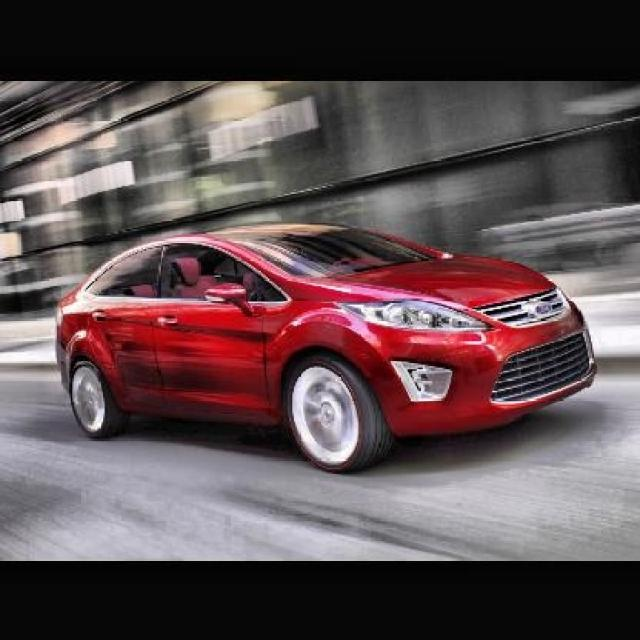red: (58, 218, 602, 461)
